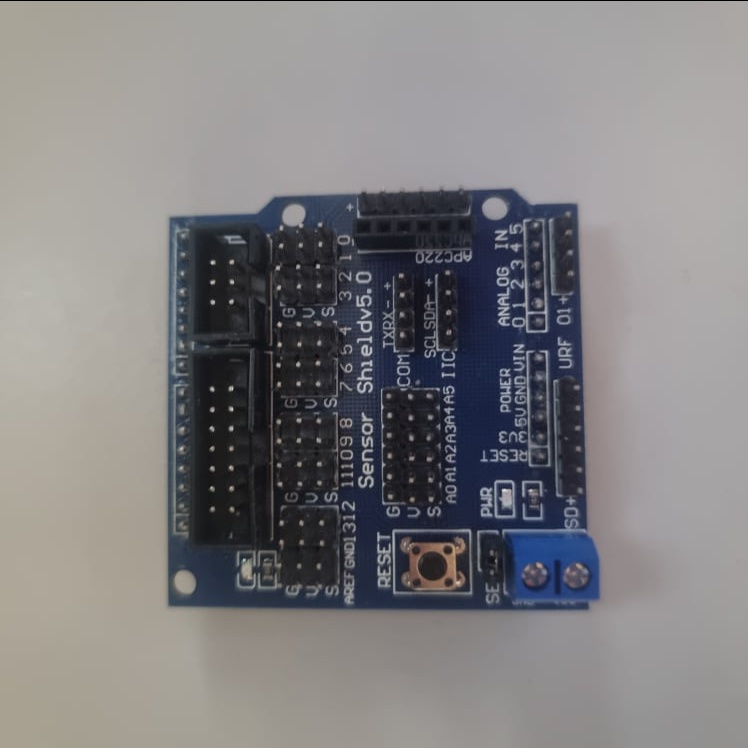5V EXPANSION: (166, 183, 601, 610)
